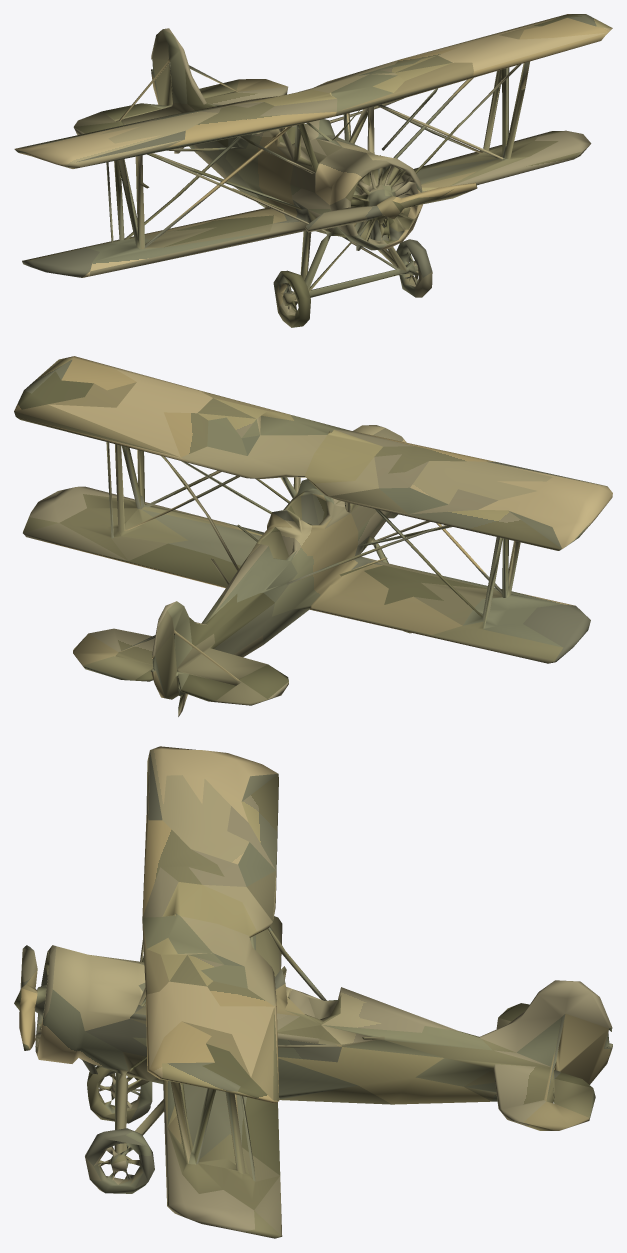
Rendered from biplane.glb.
The picture shows the model from 3 angles, top to bottom: view 1: azimuth 30°, elevation 25°; view 2: azimuth 150°, elevation 25°; view 3: azimuth 270°, elevation 25°; orthographic projection. The views are drawn at different scales.
Parts seen in each view (by area): view 1: LO.001; view 2: LO.001; view 3: LO.001.
Part boxes in pixels (x1,y1,x2,y2): LO.001: (14, 14, 612, 327); LO.001: (14, 356, 612, 716); LO.001: (14, 746, 612, 1238).
Size of the model in its own units: 8.99 by 3.14 by 6.77.
1 material, 1 textured.
